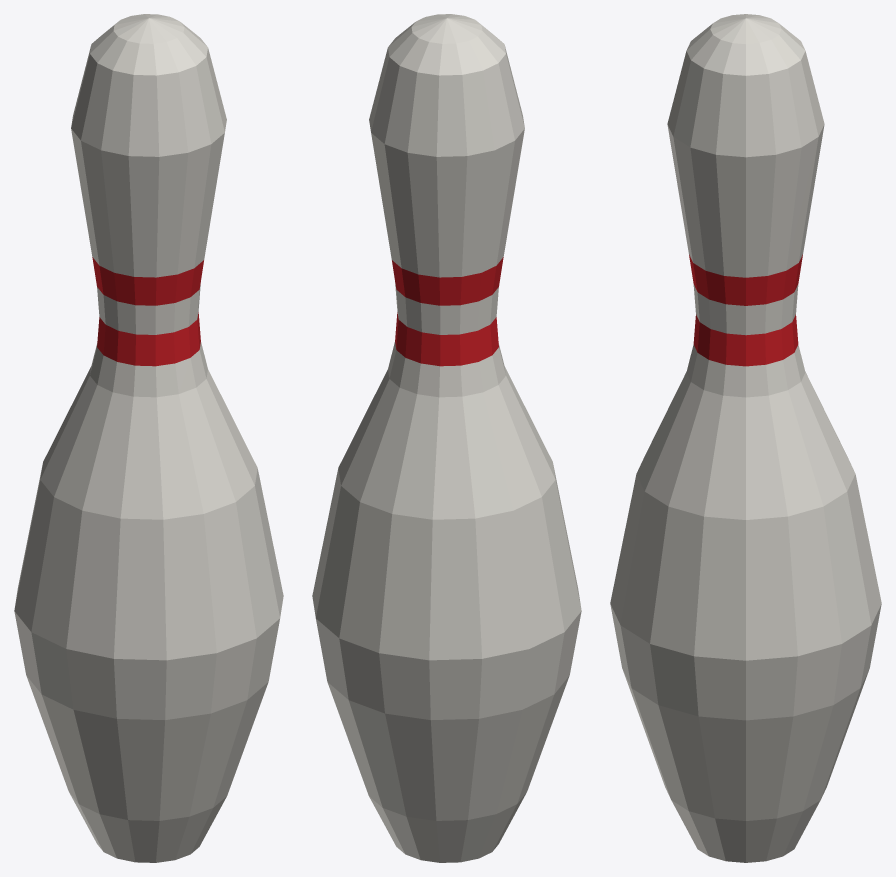
Rendered from NEW_RECOVERY_005_LOD2.glb.
3 renders of one model, left to right at view 1: azimuth 30°, elevation 25°; view 2: azimuth 150°, elevation 25°; view 3: azimuth 270°, elevation 25°, orthographic.
Parts seen in each view (by area): view 1: NEW_RECOVERY_005_LOD2; view 2: NEW_RECOVERY_005_LOD2; view 3: NEW_RECOVERY_005_LOD2.
Part boxes in pixels (x1=…): NEW_RECOVERY_005_LOD2: x1=14, y1=14, x2=283, y2=862; NEW_RECOVERY_005_LOD2: x1=312, y1=14, x2=581, y2=862; NEW_RECOVERY_005_LOD2: x1=610, y1=14, x2=881, y2=862.
Size of the model in its own units: 0.114 by 0.381 by 0.114.
